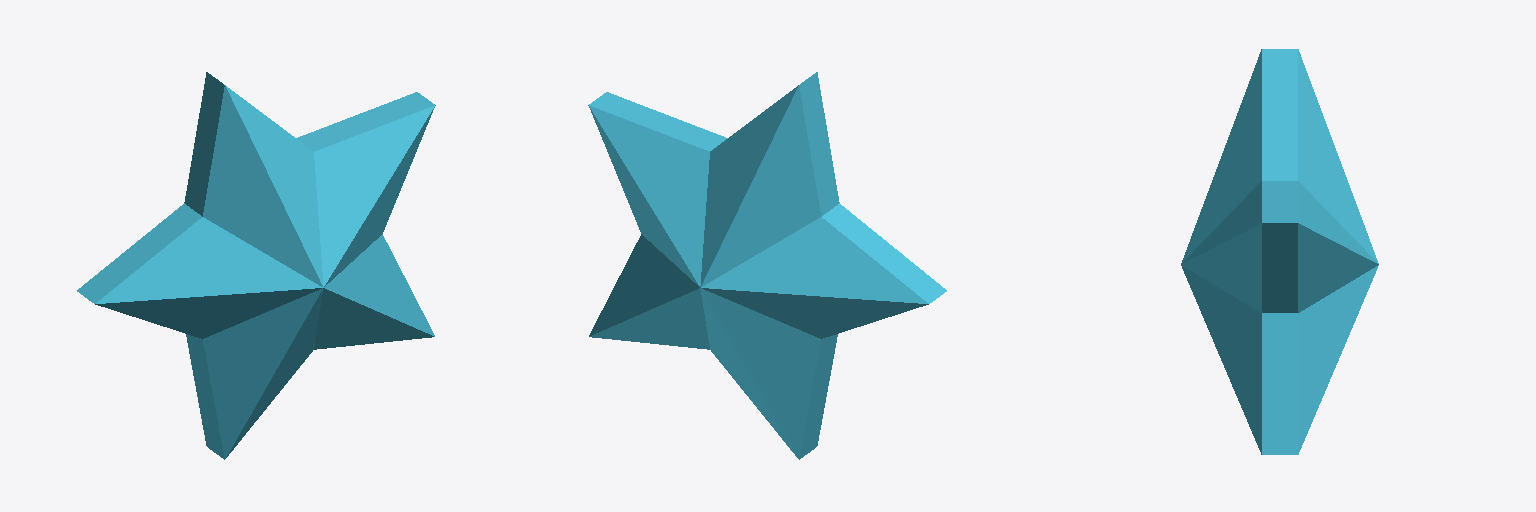
Rendered from star.obj.
3 views of the same model, side by side, from view 1: azimuth 30°, elevation 25°; view 2: azimuth 150°, elevation 25°; view 3: azimuth 270°, elevation 25° (orthographic).
Parts seen in each view (by area): view 1: Star04; view 2: Star04; view 3: Star04.
Boxes of the visible parts, x1=… form: Star04: x1=77, y1=72, x2=435, y2=459; Star04: x1=588, y1=72, x2=946, y2=459; Star04: x1=1181, y1=49, x2=1378, y2=454.
Size of the model in its own units: 18.5 by 19.45 by 9.32.